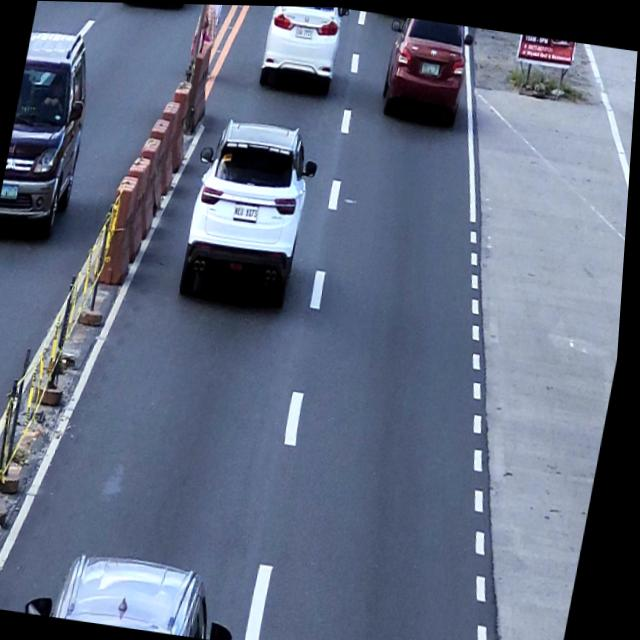Car: (178, 115, 326, 308), (0, 29, 102, 243), (31, 546, 254, 640), (375, 14, 479, 128), (250, 4, 349, 100), (119, 2, 194, 13)
License-Plate: (235, 201, 262, 220), (3, 182, 21, 201), (294, 24, 314, 37), (422, 59, 440, 73)
